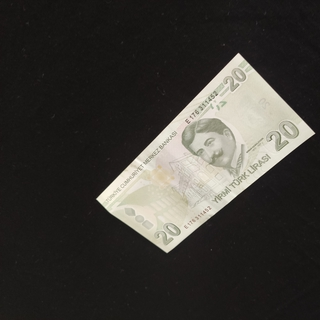20TLBack: (95, 52, 316, 254)
